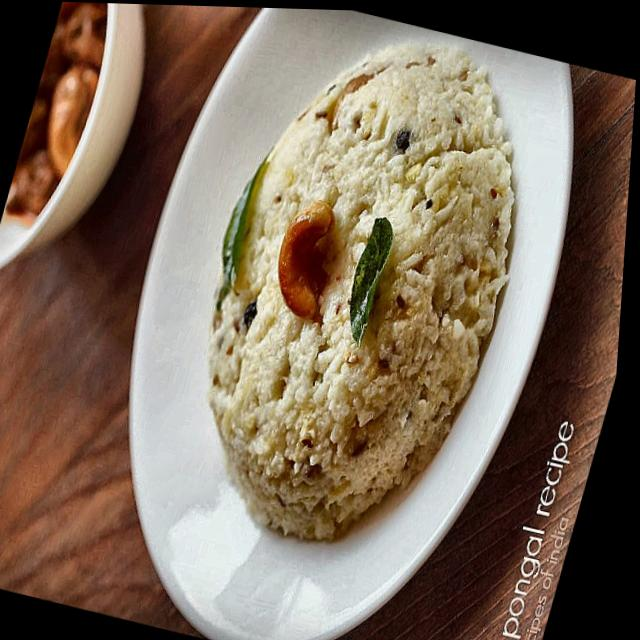PONGAL: (208, 48, 513, 541)
